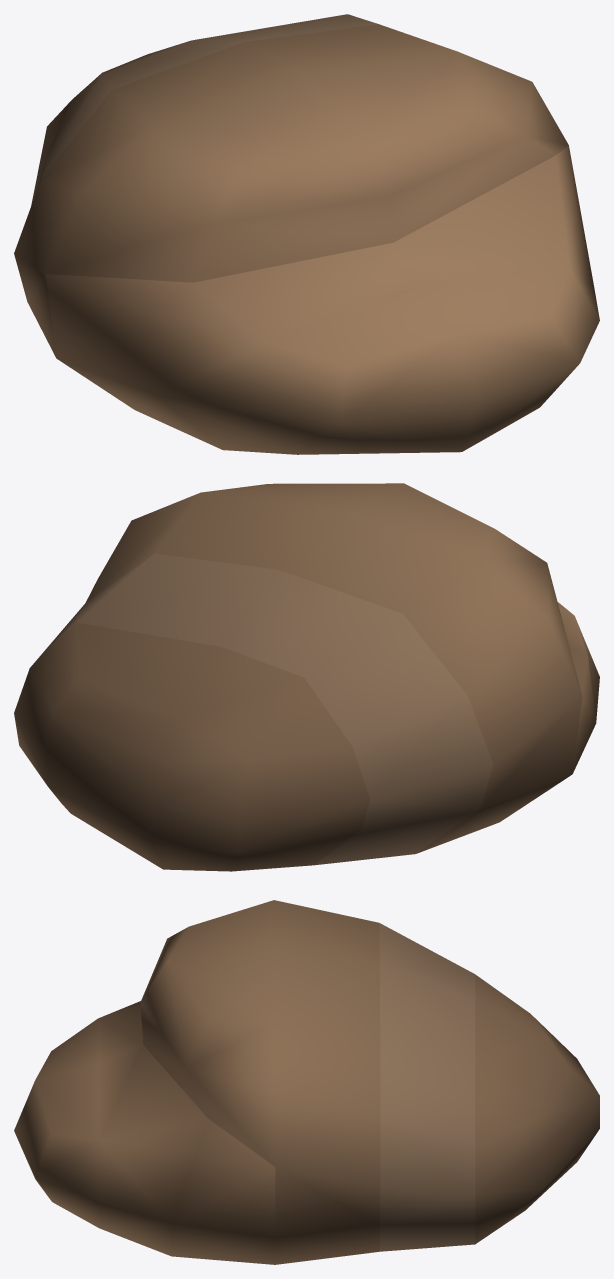
Rendered from SandstonePebble.005.glb.
The picture shows the model from 3 angles, top to bottom: view 1: azimuth 30°, elevation 25°; view 2: azimuth 150°, elevation 25°; view 3: azimuth 270°, elevation 25°; orthographic projection. The views are drawn at different scales.
Parts seen in each view (by area): view 1: SandstonePebble.005; view 2: SandstonePebble.005; view 3: SandstonePebble.005.
Part boxes in pixels (box(x1,y1,x2,y2)): SandstonePebble.005: box(14, 14, 599, 454); SandstonePebble.005: box(14, 483, 599, 871); SandstonePebble.005: box(14, 900, 599, 1264).
Size of the model in its own units: 11.45 by 6.66 by 13.48.
